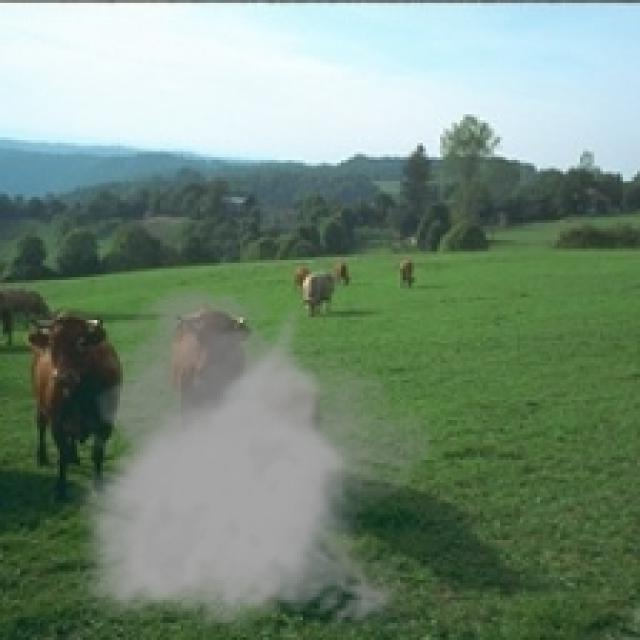Smoke: (66, 282, 434, 634)
